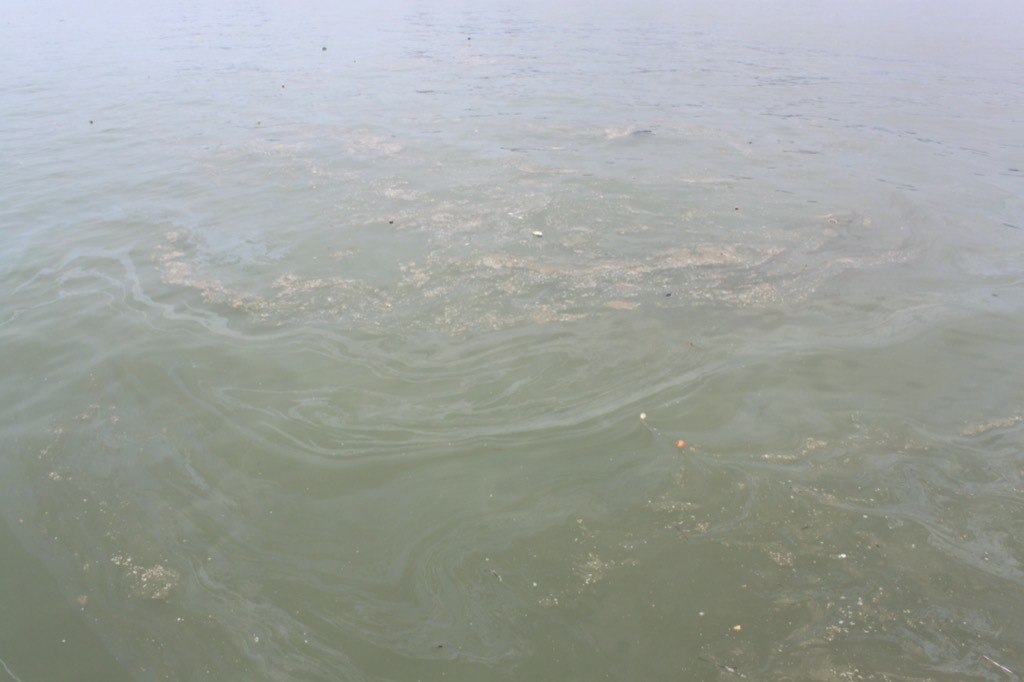organic: (312, 38, 335, 59), (431, 639, 453, 659), (81, 110, 101, 131), (273, 77, 294, 96), (659, 287, 678, 305), (458, 31, 478, 47), (745, 133, 758, 157), (730, 200, 745, 218)
plastic: (517, 220, 559, 250), (373, 209, 405, 234)
